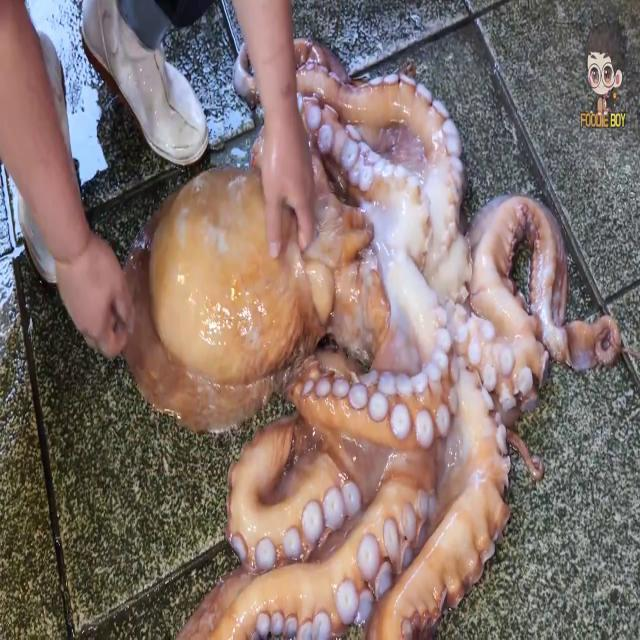octopus: (112, 30, 620, 640)
